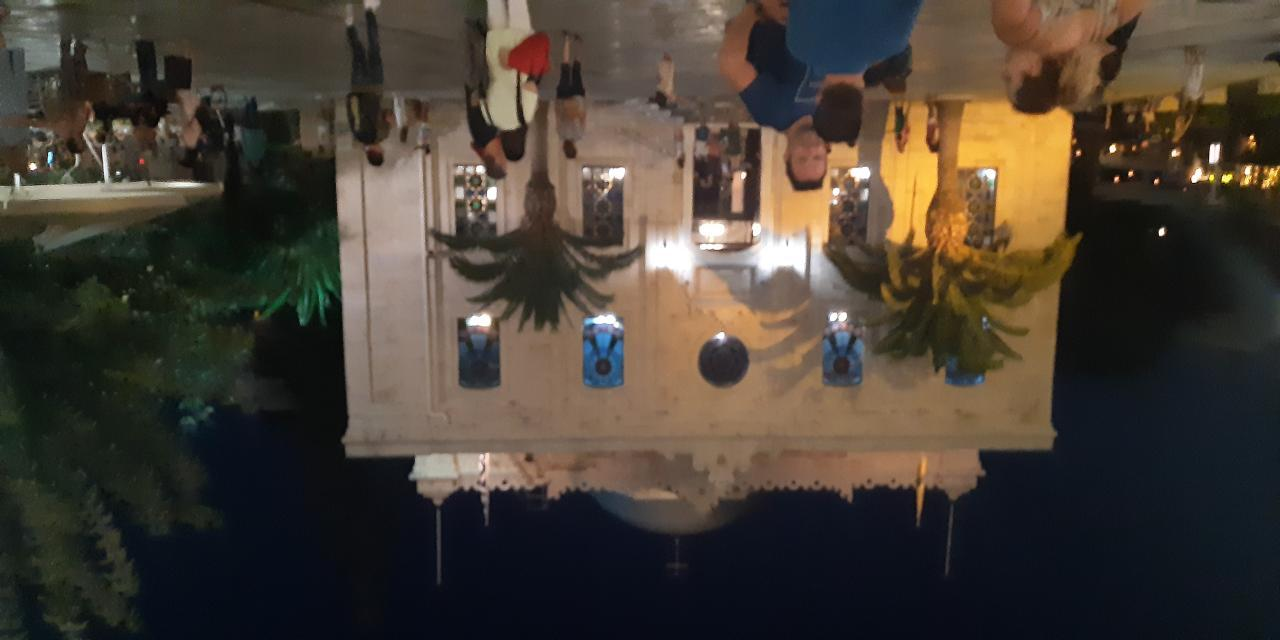Agios Titos: (208, 134, 961, 551)
